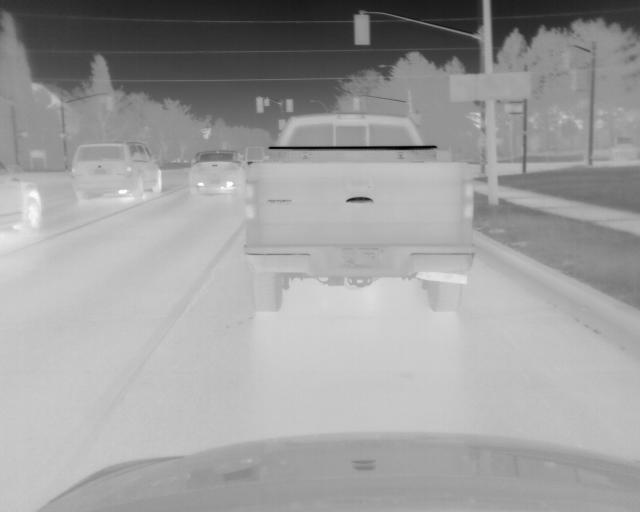car: (240, 111, 475, 315), (68, 138, 162, 204), (185, 148, 248, 194), (1, 161, 41, 231)
